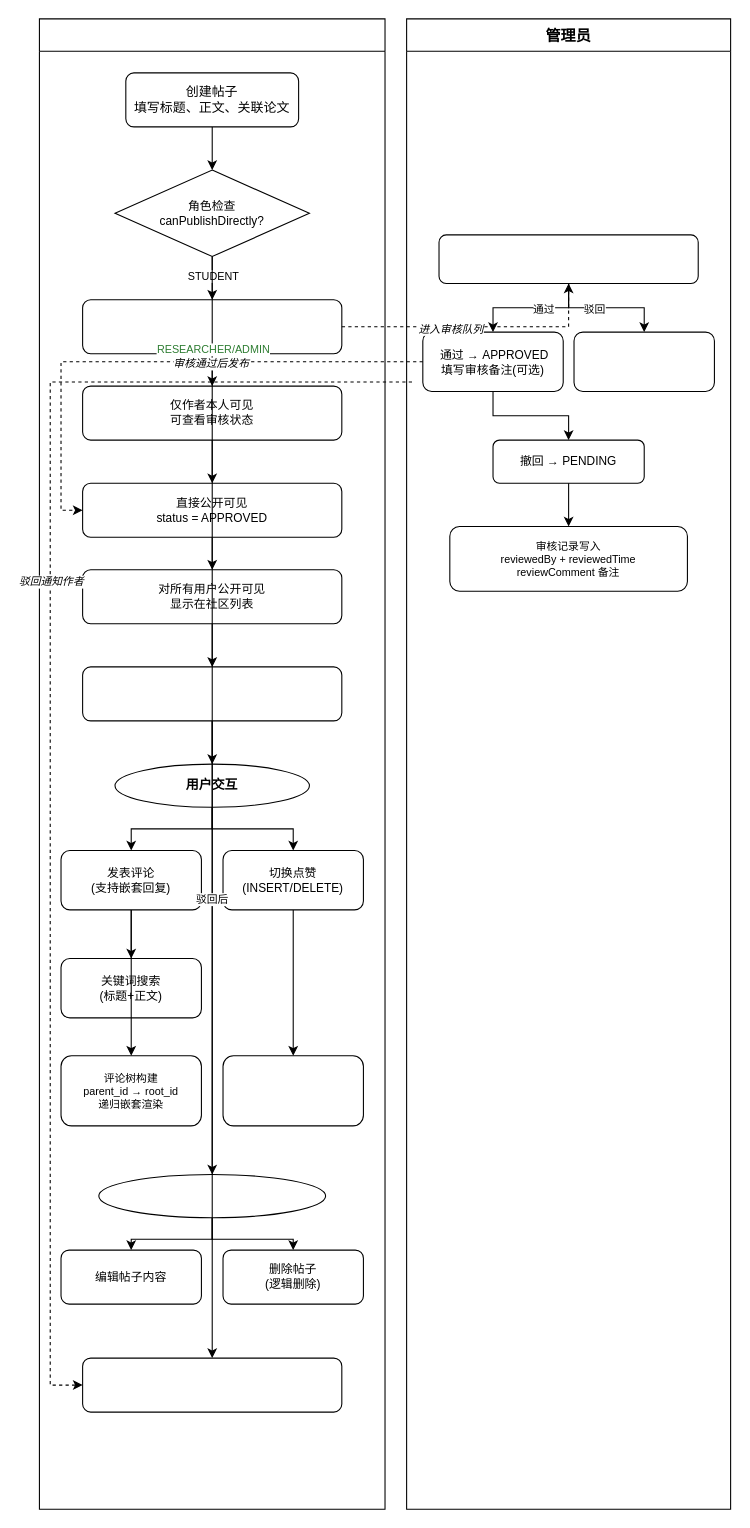
The diagram is 750 pixels wide and 1528 high, and some of its shapes have lost their labels. Here are the shapes that lost their labels. From the top down, the box of each, then its label:
(438, 234, 698, 284): 审核待审帖子
(82, 299, 342, 354): 进入待审核队列 status = PENDING
(573, 331, 714, 392): 驳回 → REJECTED 填写驳回原因(必填)
(82, 666, 342, 721): 社区帖子列表 最新排序 / 热门排序
(38, 18, 385, 1509): 普通用户
(222, 1055, 363, 1126): 点赞数批量统计 post_like COUNT(*)
(98, 1173, 326, 1218): 作者管理自己帖子
(82, 1357, 342, 1412): 作者收到驳回通知 可修改后重新提交
